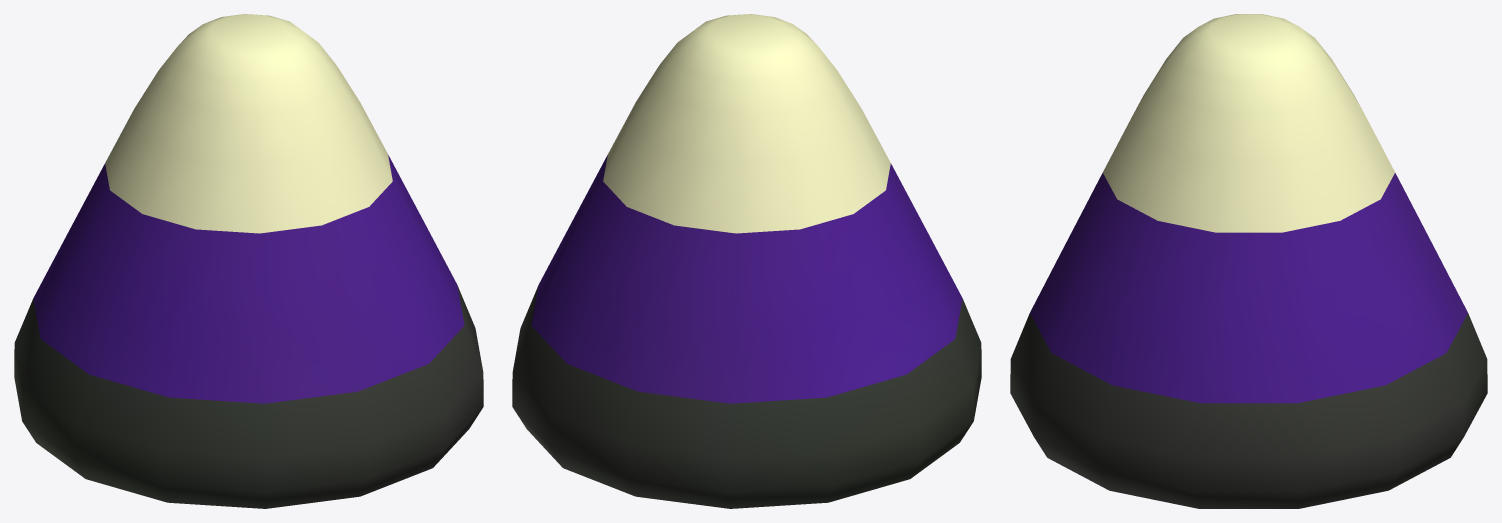
Rendered from candy_hard_23.fbx.
3 renders of one model, left to right at view 1: azimuth 30°, elevation 25°; view 2: azimuth 150°, elevation 25°; view 3: azimuth 270°, elevation 25°, orthographic.
Parts seen in each view (by area): view 1: c_h_23; view 2: c_h_23; view 3: c_h_23.
Boxes of the visible parts, <box> form: c_h_23: <box>14,14,483,508</box>; c_h_23: <box>512,14,981,508</box>; c_h_23: <box>1010,14,1487,508</box>.
Bounding box in the file's own units: 112 × 110 × 115.
